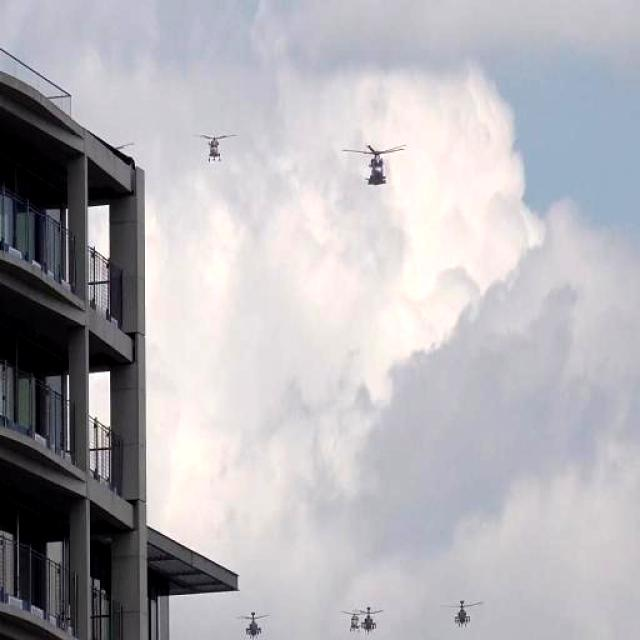drone: (339, 141, 409, 189), (191, 131, 238, 165), (441, 600, 486, 630), (235, 610, 271, 640), (351, 605, 385, 636), (339, 606, 370, 634)
